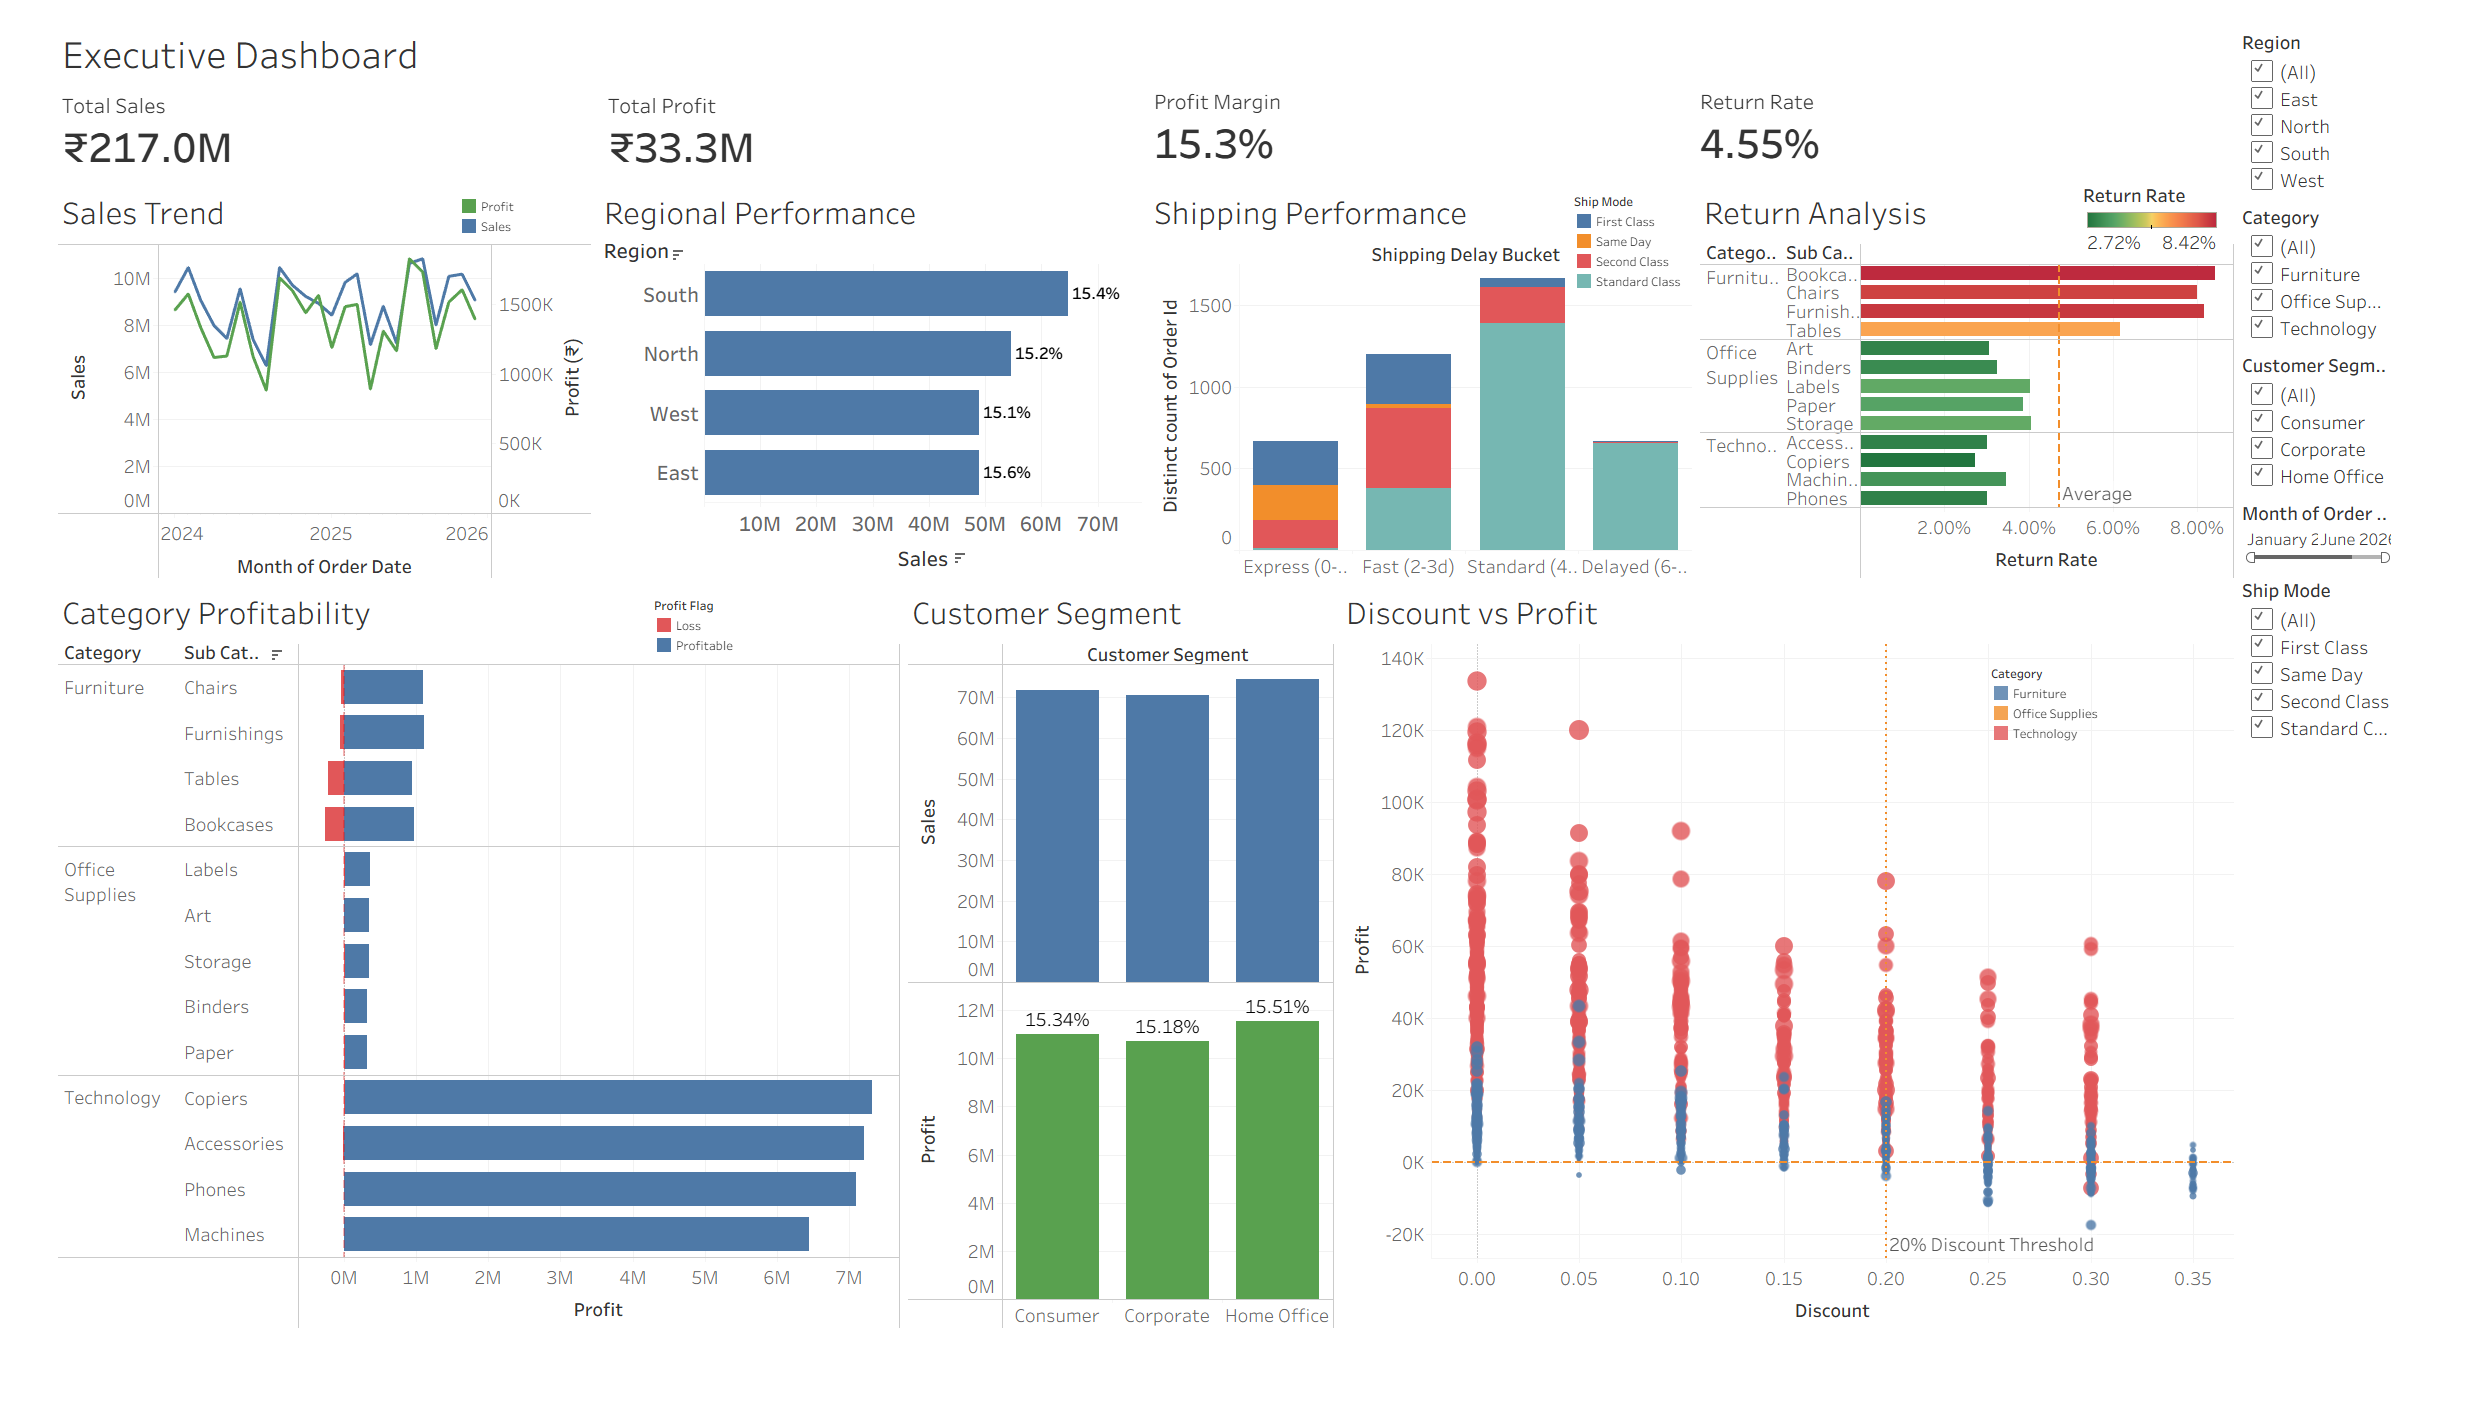

The dashboard page shown, as its layout file describes it:
{"tool":"tableau","page":{"name":"Executive Dashboard","canvas":[2360,1340],"ordinal":0},"visuals":[{"type":"title","box":[8,8,2184,58]},{"type":"filter","title":"Regional Performance","param":"[federated.18qkihv1hhapwm12xblsx0wvfdt8].[none:region:nk]","box":[2192,8,160,175]},{"type":"worksheet","title":" KPI Total Sales","mark":"Automatic","box":[8,66,545.9,100]},{"type":"worksheet","title":"KPI Total Profit","mark":"Automatic","box":[553.9,66,546.1,100]},{"type":"worksheet","title":"KPI Profit Margin","mark":"Automatic","box":[1100,66,545.9,100]},{"type":"worksheet","title":"KPI Return Rate","mark":"Automatic","box":[1645.9,66,546.1,100]},{"type":"legend","title":"Return Analysis","param":"[federated.18qkihv1hhapwm12xblsx0wvfdt8].[usr:Calculation_1523390749839365:qk]","box":[2037,165,138,69]},{"type":"worksheet","title":"Sales Trend","mark":"Automatic","rows":["sales","profit"],"cols":["order_date"],"box":[8,166,542,400]},{"type":"worksheet","title":"Regional Performance","mark":"Automatic","rows":["region"],"cols":["sales"],"box":[550,166,550,400]},{"type":"worksheet","title":"Shipping Performance","mark":"Automatic","rows":["order_id"],"cols":["Calculation_1523390749970438"],"box":[1100,166,550,400]},{"type":"worksheet","title":"Return Analysis","mark":"Automatic","rows":["category","sub_category"],"cols":["Calculation_1523390749839365"],"box":[1650,166,542,400]},{"type":"legend","title":"Shipping Performance","param":"[federated.18qkihv1hhapwm12xblsx0wvfdt8].[none:ship_mode:nk]","box":[1528,176,117,102]},{"type":"legend","title":"Sales Trend","param":"[federated.18qkihv1hhapwm12xblsx0wvfdt8].[:Measure Names]","box":[413,179,151,43]},{"type":"filter","title":"Category Profitability","param":"[federated.18qkihv1hhapwm12xblsx0wvfdt8].[none:category:nk]","box":[2192,183,160,148]},{"type":"filter","title":"Customer Segment","param":"[federated.18qkihv1hhapwm12xblsx0wvfdt8].[none:customer_segment:nk]","box":[2192,331,160,148]},{"type":"filter","title":"Sales Trend","param":"[federated.18qkihv1hhapwm12xblsx0wvfdt8].[tmn:order_date:qk]","box":[2192,479,160,77]},{"type":"filter","title":"Shipping Performance","param":"[federated.18qkihv1hhapwm12xblsx0wvfdt8].[none:ship_mode:nk]","box":[2192,556,160,175]},{"type":"worksheet","title":"Category Profitability","mark":"Automatic","rows":["category","sub_category"],"cols":["profit"],"box":[8,566,850,750]},{"type":"worksheet","title":"Customer Segment","mark":"Bar","rows":["sales","profit"],"cols":["customer_segment"],"box":[858,566,434,750]},{"type":"worksheet","title":"Discount vs Profit","mark":"Circle","rows":["profit"],"cols":["discount"],"box":[1292,566,900,750]},{"type":"legend","title":"Category Profitability","param":"[federated.18qkihv1hhapwm12xblsx0wvfdt8].[none:Calculation_1523390750064647:nk]","box":[608.4,580,121.7,58]},{"type":"legend","title":"Discount vs Profit","param":"[federated.18qkihv1hhapwm12xblsx0wvfdt8].[none:category:nk]","box":[1941,644,183,86]}]}

Visuals, with their boxes in screenshot pixels (x1, y1, x2, y2), scaled from the page's 2360x1340 canvas onto the 2467x1402 screenshot:
title: {"x1": 8, "y1": 8, "x2": 2291, "y2": 69}
"Regional Performance" filter: {"x1": 2291, "y1": 8, "x2": 2459, "y2": 191}
" KPI Total Sales" worksheet: {"x1": 8, "y1": 69, "x2": 579, "y2": 174}
"KPI Total Profit" worksheet: {"x1": 579, "y1": 69, "x2": 1150, "y2": 174}
"KPI Profit Margin" worksheet: {"x1": 1150, "y1": 69, "x2": 1721, "y2": 174}
"KPI Return Rate" worksheet: {"x1": 1721, "y1": 69, "x2": 2291, "y2": 174}
"Return Analysis" legend: {"x1": 2129, "y1": 173, "x2": 2274, "y2": 245}
"Sales Trend" worksheet: {"x1": 8, "y1": 174, "x2": 575, "y2": 592}
"Regional Performance" worksheet: {"x1": 575, "y1": 174, "x2": 1150, "y2": 592}
"Shipping Performance" worksheet: {"x1": 1150, "y1": 174, "x2": 1725, "y2": 592}
"Return Analysis" worksheet: {"x1": 1725, "y1": 174, "x2": 2291, "y2": 592}
"Shipping Performance" legend: {"x1": 1597, "y1": 184, "x2": 1720, "y2": 291}
"Sales Trend" legend: {"x1": 432, "y1": 187, "x2": 590, "y2": 232}
"Category Profitability" filter: {"x1": 2291, "y1": 191, "x2": 2459, "y2": 346}
"Customer Segment" filter: {"x1": 2291, "y1": 346, "x2": 2459, "y2": 501}
"Sales Trend" filter: {"x1": 2291, "y1": 501, "x2": 2459, "y2": 582}
"Shipping Performance" filter: {"x1": 2291, "y1": 582, "x2": 2459, "y2": 765}
"Category Profitability" worksheet: {"x1": 8, "y1": 592, "x2": 897, "y2": 1377}
"Customer Segment" worksheet (Bar marks): {"x1": 897, "y1": 592, "x2": 1351, "y2": 1377}
"Discount vs Profit" worksheet (Circle marks): {"x1": 1351, "y1": 592, "x2": 2291, "y2": 1377}
"Category Profitability" legend: {"x1": 636, "y1": 607, "x2": 763, "y2": 668}
"Discount vs Profit" legend: {"x1": 2029, "y1": 674, "x2": 2220, "y2": 764}
